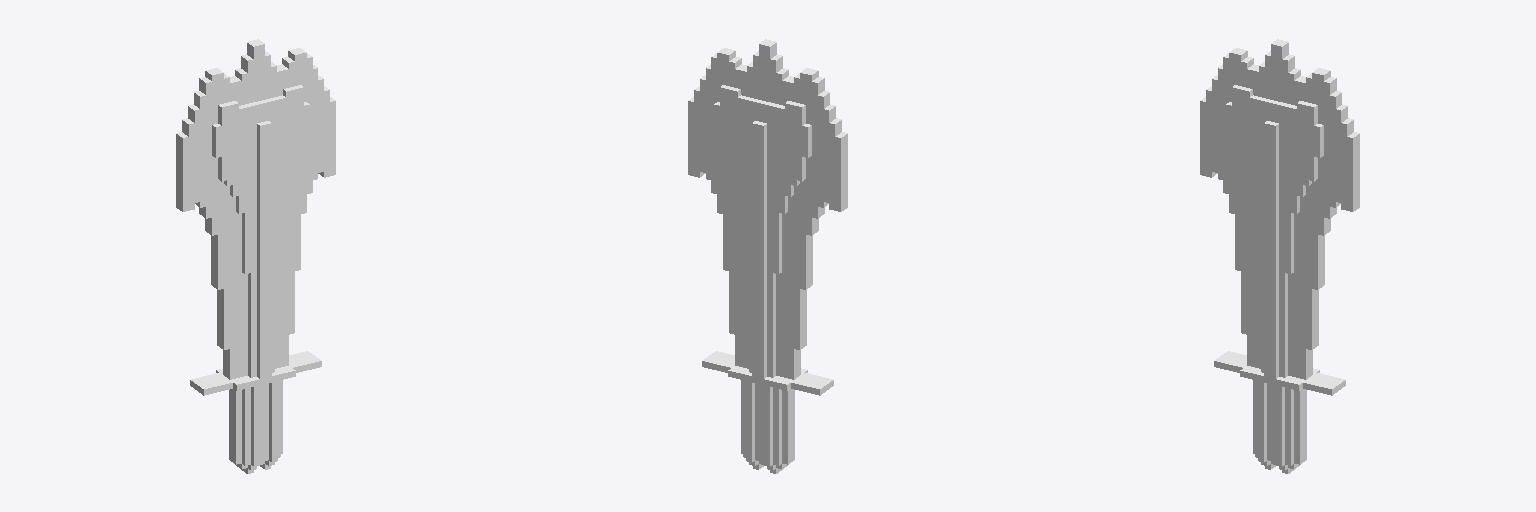
Rendered from BigFire.obj.
The picture shows the model from 3 angles: view 1: azimuth 30°, elevation 25°; view 2: azimuth 150°, elevation 25°; view 3: azimuth 330°, elevation 25°; orthographic projection.
Parts seen in each view (by area): view 1: object 1; view 2: object 1; view 3: object 1.
Boxes of the visible parts, box(x1,y1,x2,y2) form: object 1: box(176, 39, 335, 473); object 1: box(688, 39, 847, 473); object 1: box(1200, 39, 1359, 473).
Size of the model in its own units: 2.6 by 6.9 by 0.6.